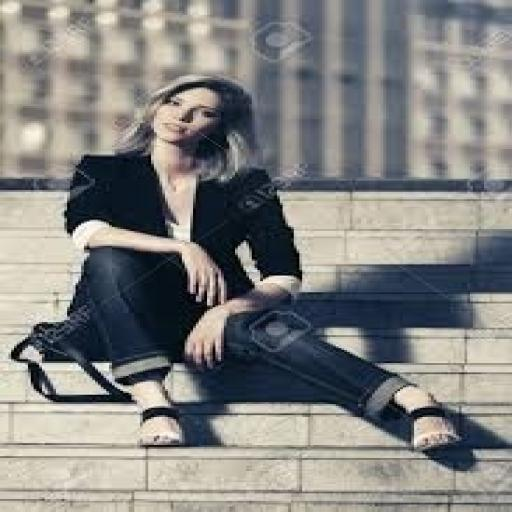sitting: (48, 73, 467, 454)
